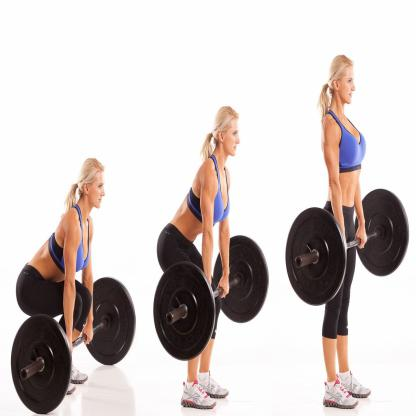Barbell: (7, 310, 80, 415), (150, 256, 218, 367), (283, 200, 350, 312)
